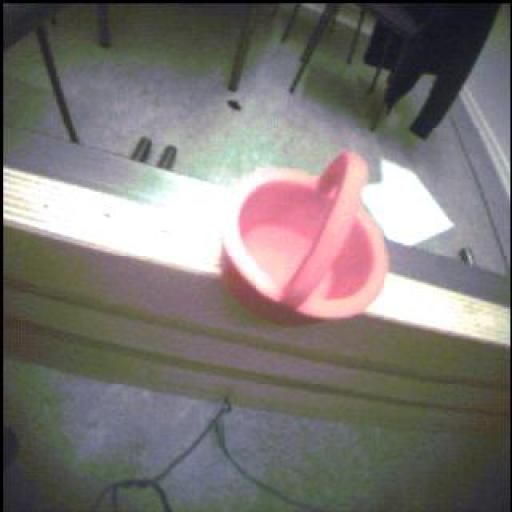Bucket: (232, 153, 401, 328)
